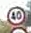limite 40: (5, 4, 26, 25)
